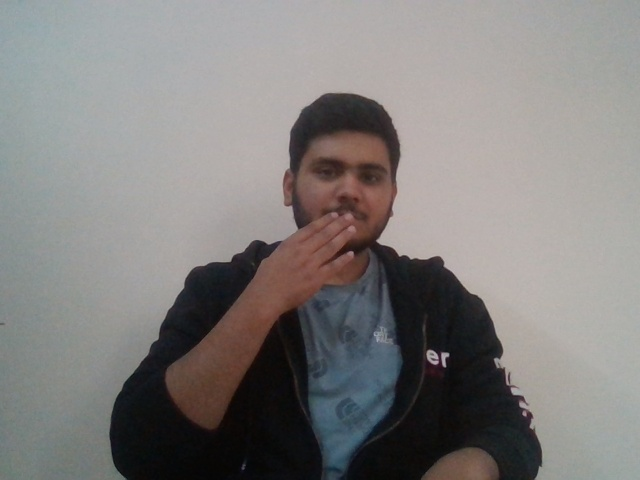Thanks: (242, 197, 438, 303)
